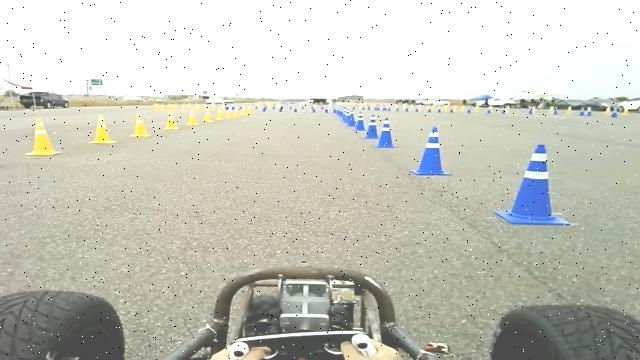blue cone: (494, 144, 571, 226), (410, 126, 452, 176), (376, 117, 398, 148), (364, 114, 379, 139), (354, 112, 366, 132), (345, 113, 356, 127)
yellow cone: (26, 116, 63, 156), (89, 112, 117, 144), (130, 111, 152, 137), (163, 111, 180, 130), (187, 111, 200, 125), (203, 108, 214, 123), (216, 108, 225, 120), (227, 109, 236, 118), (246, 106, 254, 115)
